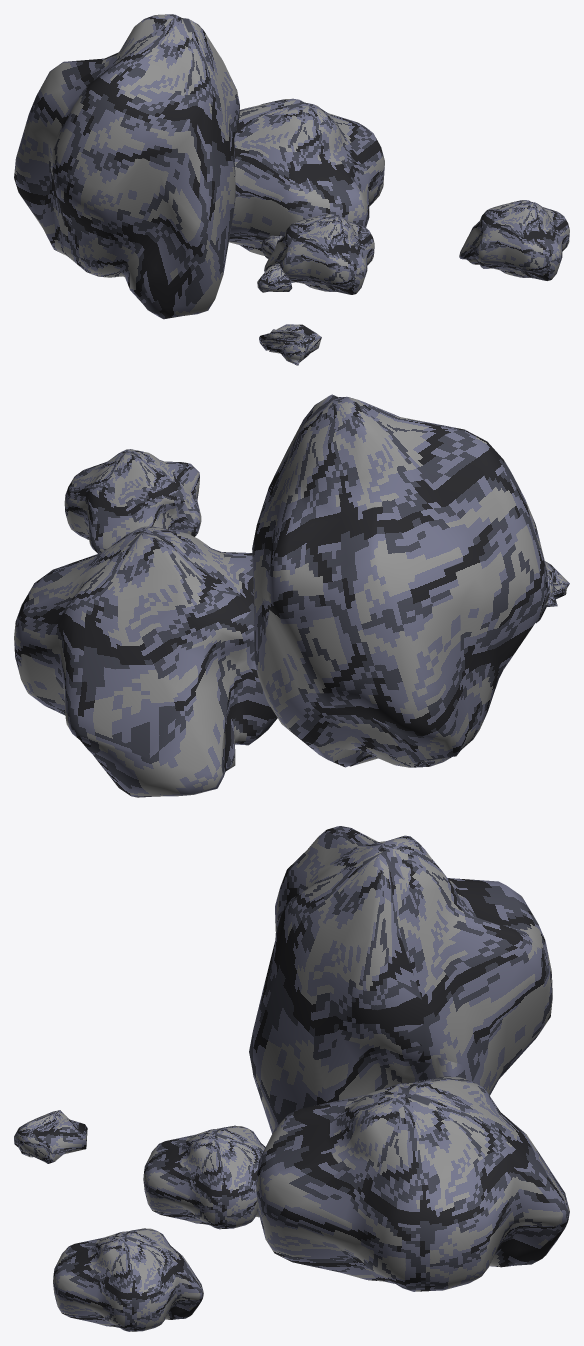
File: Piedras-pixel.glb
3 renders of one model, top to bottom at view 1: azimuth 30°, elevation 25°; view 2: azimuth 150°, elevation 25°; view 3: azimuth 270°, elevation 25°, orthographic. The views are drawn at different scales.
Parts seen in each view (by area): view 1: Piedra.002, Piedra.001, Piedra.004, Piedra, Piedra.008, Piedra.013; view 2: Piedra.002, Piedra.001, Piedra.004, Piedra.008; view 3: Piedra.002, Piedra.001, Piedra.004, Piedra, Piedra.008.
Part boxes in pixels (x1=…): Piedra.002: x1=14, y1=14, x2=239, y2=319; Piedra.001: x1=229, y1=98, x2=384, y2=255; Piedra.004: x1=459, y1=200, x2=569, y2=280; Piedra: x1=264, y1=214, x2=374, y2=294; Piedra.008: x1=259, y1=324, x2=321, y2=365; Piedra.013: x1=257, y1=263, x2=292, y2=292; Piedra.002: x1=252, y1=394, x2=548, y2=767; Piedra.001: x1=14, y1=526, x2=277, y2=797; Piedra.004: x1=64, y1=449, x2=201, y2=553; Piedra.008: x1=536, y1=561, x2=569, y2=623; Piedra.002: x1=249, y1=826, x2=552, y2=1133; Piedra.001: x1=256, y1=1076, x2=569, y2=1291; Piedra.004: x1=53, y1=1228, x2=203, y2=1331; Piedra: x1=143, y1=1125, x2=265, y2=1229; Piedra.008: x1=14, y1=1110, x2=87, y2=1163.
Bounding box in the file's own units: 65.8 × 41.43 × 56.77.
Materials: 1 (1 with a texture image).
